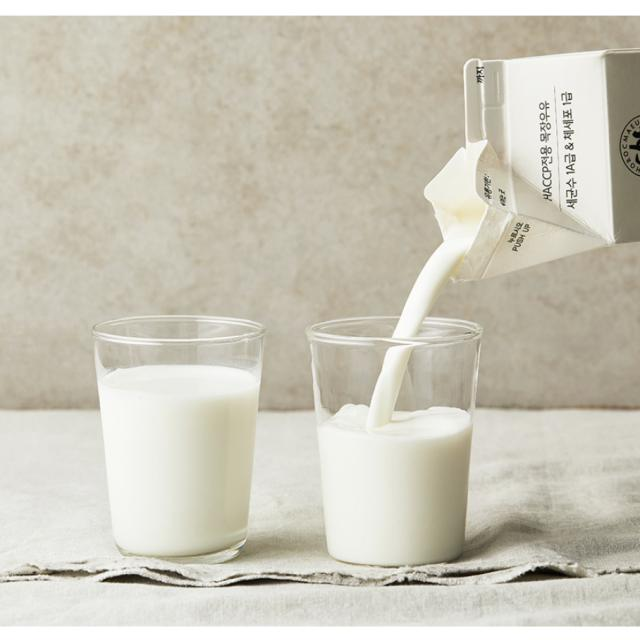biodegradable: (414, 20, 636, 293)
recyclable: (76, 265, 283, 586), (295, 285, 496, 579)
